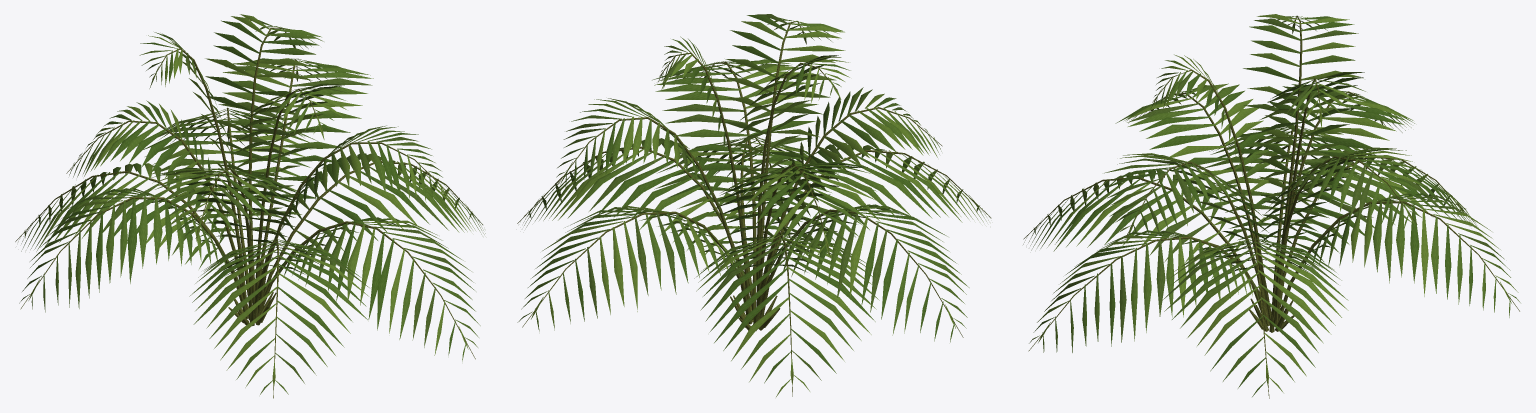
File: green_fern.glb
3 renders of one model, left to right at view 1: azimuth 30°, elevation 25°; view 2: azimuth 150°, elevation 25°; view 3: azimuth 270°, elevation 25°, orthographic. The views are drawn at different scales.
Visible parts, largest first — view 1: Fern; view 2: Fern; view 3: Fern.
Part boxes in pixels (bbox=[...]): Fern: bbox=[15, 14, 485, 398]; Fern: bbox=[517, 14, 991, 396]; Fern: bbox=[1023, 14, 1520, 398].
Size of the model in its own units: 2.24 by 1.34 by 2.17.
Materials: 1 (1 with a texture image).
